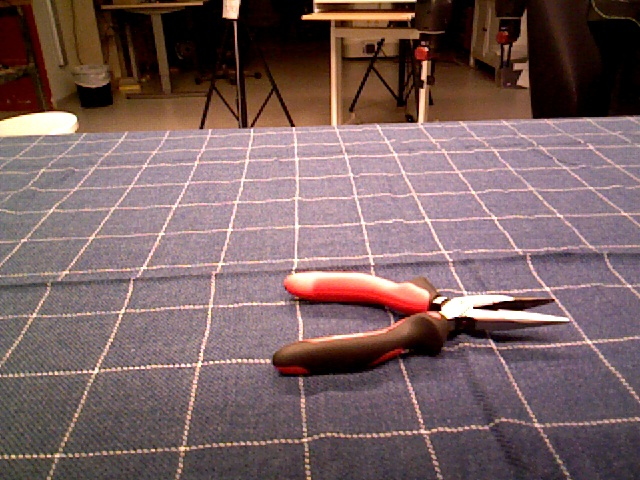plier1: (272, 271, 575, 377)
